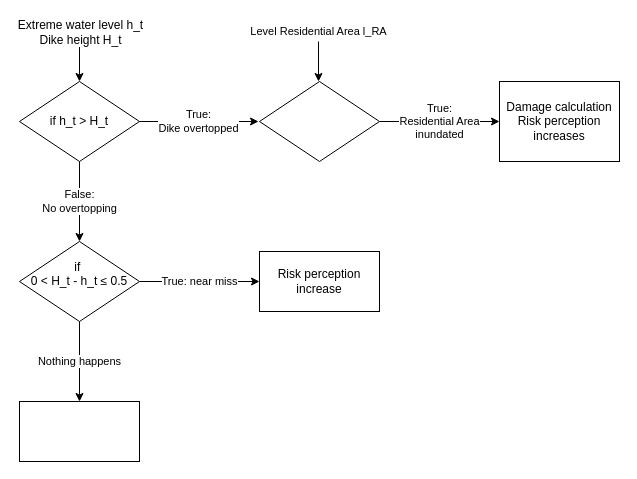
Image size: 637x479. Some labels were removed from this diagram. The shapes that lost their labels are listed below. From the top down, each one's centre as x and y in pixels, then its label:
At point (319, 121): "if h_t > l_RA".
At point (79, 431): "Risk perception decreases".
